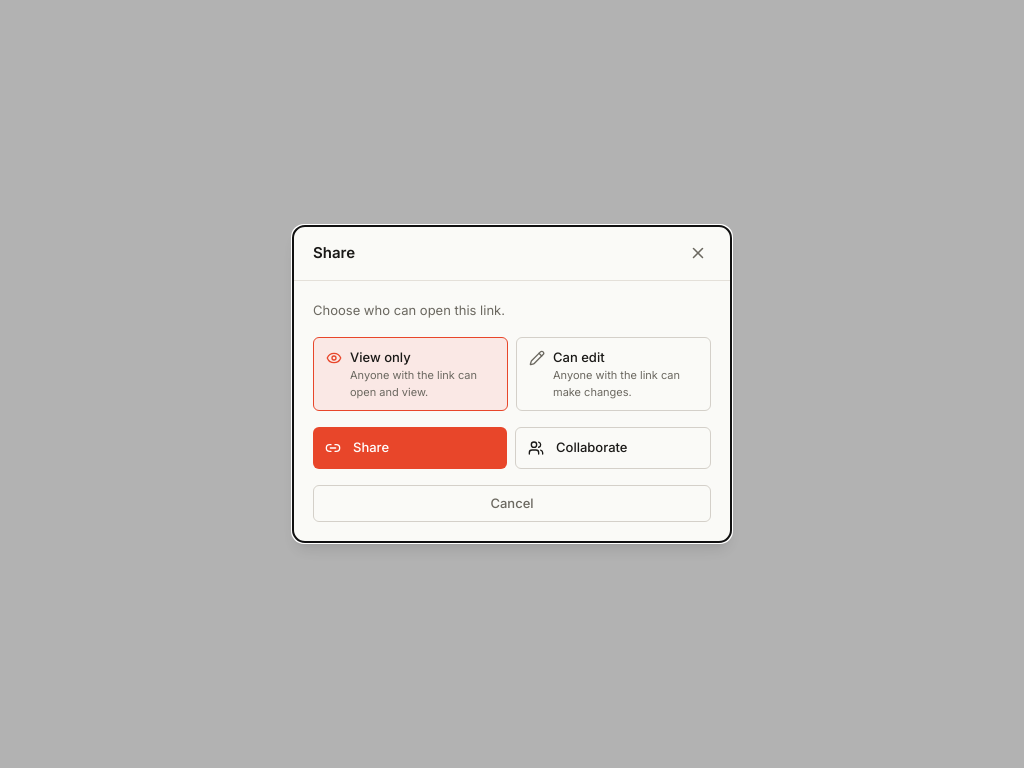
Test: ShareModal › shows when the generated link expires
Step 1. Click the button "Share" → (410, 448), box [313,427,507,468]
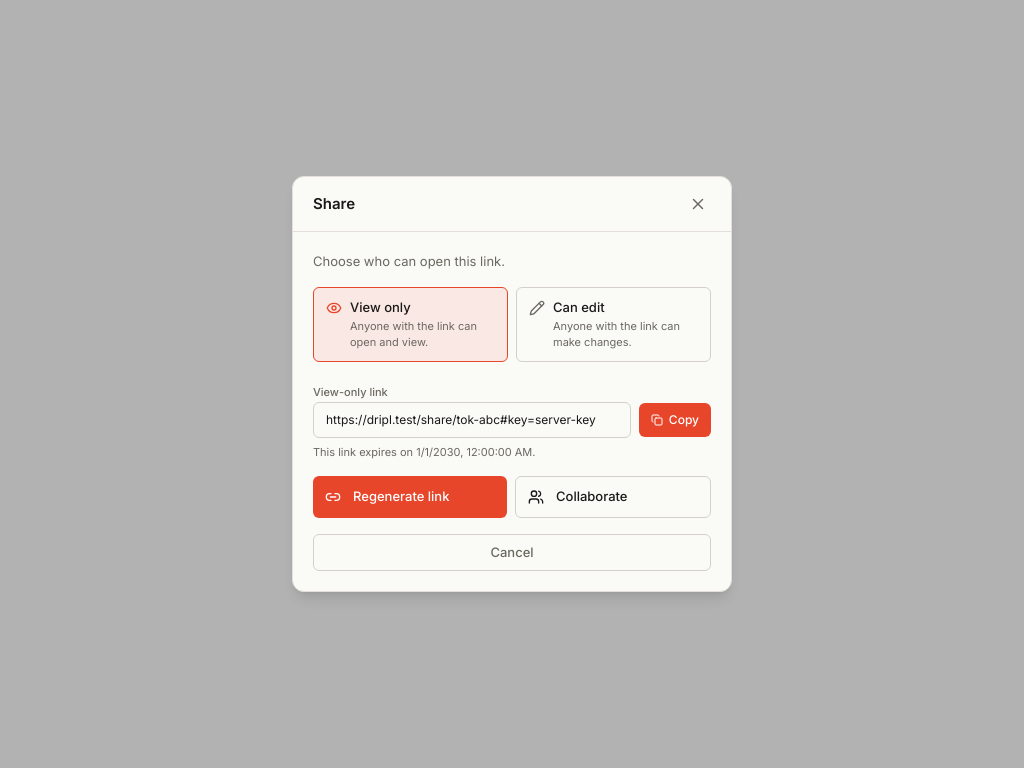
Expected: the text "This link expires on 1/1/2030, 12:00:00 AM." is shown, [313,445,536,459]
